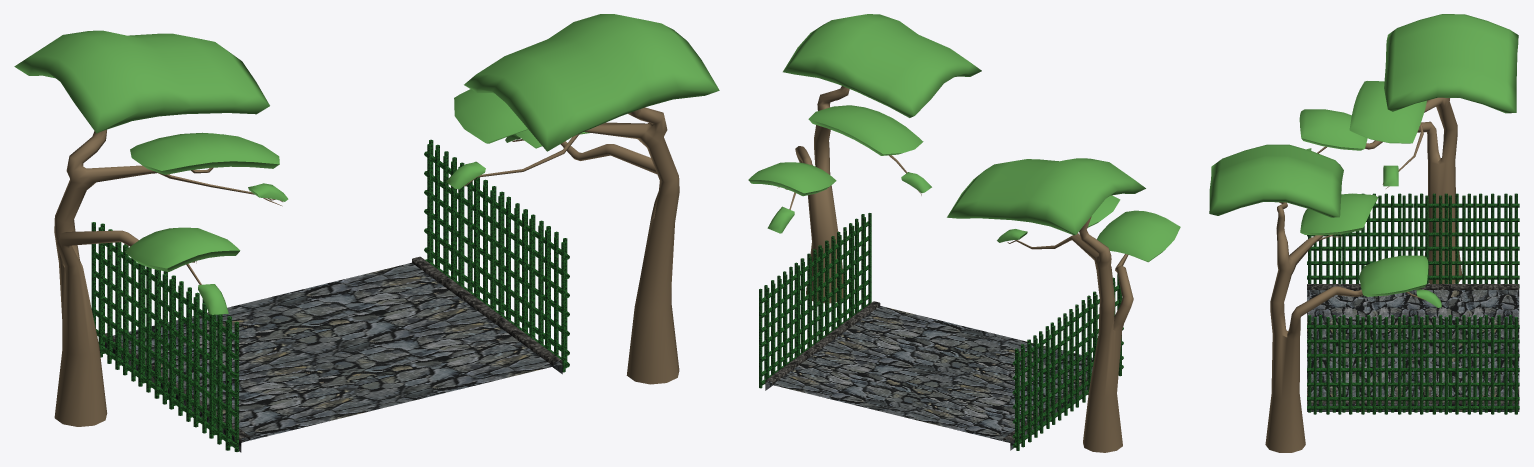
The model's file is ons_pat1_1.fbx.
3 renders of one model, left to right at view 1: azimuth 30°, elevation 25°; view 2: azimuth 150°, elevation 25°; view 3: azimuth 270°, elevation 25°, orthographic. The views are drawn at different scales.
Parts seen in each view (by area): view 1: ons_pat1:cube2, ons_pat1:cube, ons_pat1:cube13, ons_pat1:cylinder56, ons_pat1:cylinder57, ons_pat1:polymsh5, polymsh7, ons_pat1:polymsh3, polymsh6, ons_pat1:polymsh_detached3, ons_pat1:polymsh_detached5, ons_pat1:polymsh_detached (+2 smaller); view 2: ons_pat1:cube2, ons_pat1:cube, ons_pat1:cube13, ons_pat1:cylinder57, ons_pat1:polymsh3, polymsh6, polymsh7, ons_pat1:cylinder56, ons_pat1:polymsh_detached, ons_pat1:polymsh_detached5, ons_pat1:polymsh5, ons_pat1:polymsh_detached2 (+1 smaller); view 3: ons_pat1:cube2, ons_pat1:cube13, polymsh6, polymsh7, ons_pat1:cube, ons_pat1:polymsh3, ons_pat1:cylinder56, ons_pat1:polymsh5, ons_pat1:cylinder57, ons_pat1:polymsh_detached3, ons_pat1:polymsh_detached2, ons_pat1:polymsh_detached5 (+3 smaller).
Part boxes in pixels (x1=…): ons_pat1:cube2: x1=105, y1=262, x2=562, y2=452; ons_pat1:cube: x1=464, y1=14, x2=719, y2=151; ons_pat1:cube13: x1=14, y1=30, x2=269, y2=133; ons_pat1:cylinder56: x1=451, y1=107, x2=679, y2=384; ons_pat1:cylinder57: x1=54, y1=129, x2=282, y2=426; ons_pat1:polymsh5: x1=162, y1=274, x2=238, y2=451; polymsh7: x1=495, y1=191, x2=569, y2=372; ons_pat1:polymsh3: x1=91, y1=222, x2=167, y2=399; polymsh6: x1=424, y1=139, x2=497, y2=311; ons_pat1:polymsh_detached3: x1=130, y1=132, x2=279, y2=174; ons_pat1:polymsh_detached5: x1=125, y1=227, x2=240, y2=271; ons_pat1:polymsh_detached: x1=454, y1=89, x2=528, y2=143; ons_pat1:cube2: x1=765, y1=306, x2=1092, y2=450; ons_pat1:cube: x1=783, y1=14, x2=981, y2=117; ons_pat1:cube13: x1=947, y1=158, x2=1145, y2=235; ons_pat1:cylinder57: x1=1007, y1=216, x2=1133, y2=452; ons_pat1:polymsh3: x1=1012, y1=313, x2=1069, y2=450; polymsh6: x1=759, y1=252, x2=817, y2=388; polymsh7: x1=813, y1=213, x2=871, y2=343; ons_pat1:cylinder56: x1=777, y1=86, x2=921, y2=303; ons_pat1:polymsh_detached: x1=808, y1=105, x2=923, y2=155; ons_pat1:polymsh_detached5: x1=1097, y1=210, x2=1180, y2=262; ons_pat1:polymsh5: x1=1068, y1=274, x2=1123, y2=411; ons_pat1:polymsh_detached2: x1=748, y1=162, x2=836, y2=196; ons_pat1:cube2: x1=1307, y1=290, x2=1519, y2=411; ons_pat1:cube13: x1=1384, y1=14, x2=1518, y2=113; polymsh6: x1=1413, y1=315, x2=1519, y2=414; polymsh7: x1=1307, y1=315, x2=1412, y2=414; ons_pat1:cube: x1=1209, y1=144, x2=1343, y2=217; ons_pat1:polymsh3: x1=1413, y1=193, x2=1519, y2=287; ons_pat1:cylinder56: x1=1265, y1=202, x2=1425, y2=452; ons_pat1:polymsh5: x1=1307, y1=193, x2=1412, y2=283; ons_pat1:cylinder57: x1=1317, y1=97, x2=1462, y2=283; ons_pat1:polymsh_detached3: x1=1349, y1=81, x2=1426, y2=143; ons_pat1:polymsh_detached2: x1=1359, y1=255, x2=1428, y2=296; ons_pat1:polymsh_detached5: x1=1299, y1=109, x2=1367, y2=150.
Size of the model in its own units: 32.53 by 21.49 by 21.98.
